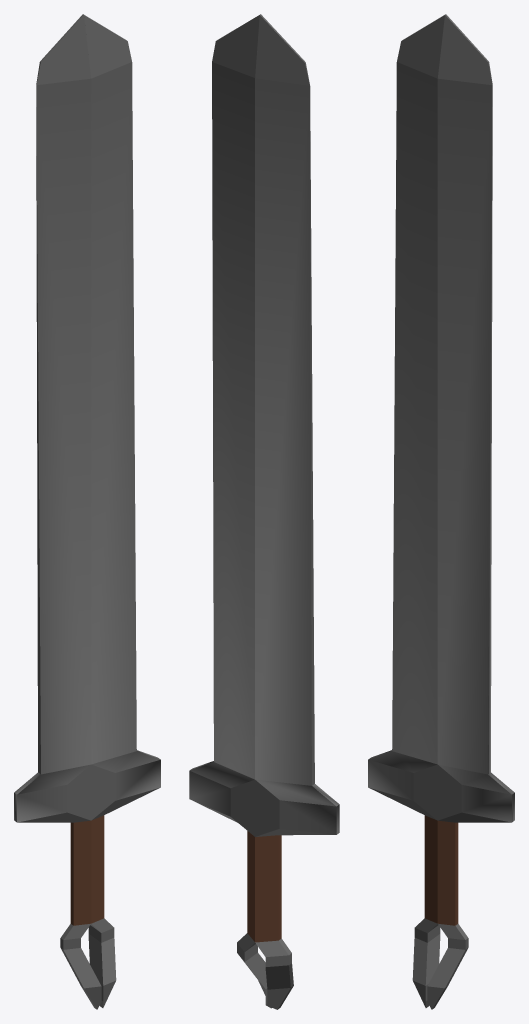
Rendered from sword_001.glb.
3 renders of one model, left to right at view 1: azimuth 30°, elevation 25°; view 2: azimuth 150°, elevation 25°; view 3: azimuth 330°, elevation 25°, orthographic. The views are drawn at different scales.
Parts seen in each view (by area): view 1: sword.001; view 2: sword.001; view 3: sword.001.
Part boxes in pixels (bbox=[...]): sword.001: bbox=[14, 14, 160, 1009]; sword.001: bbox=[189, 14, 339, 1009]; sword.001: bbox=[368, 14, 514, 1009].
Size of the model in its own units: 0.2967 by 1.94 by 0.086.
1 material, 1 textured.
